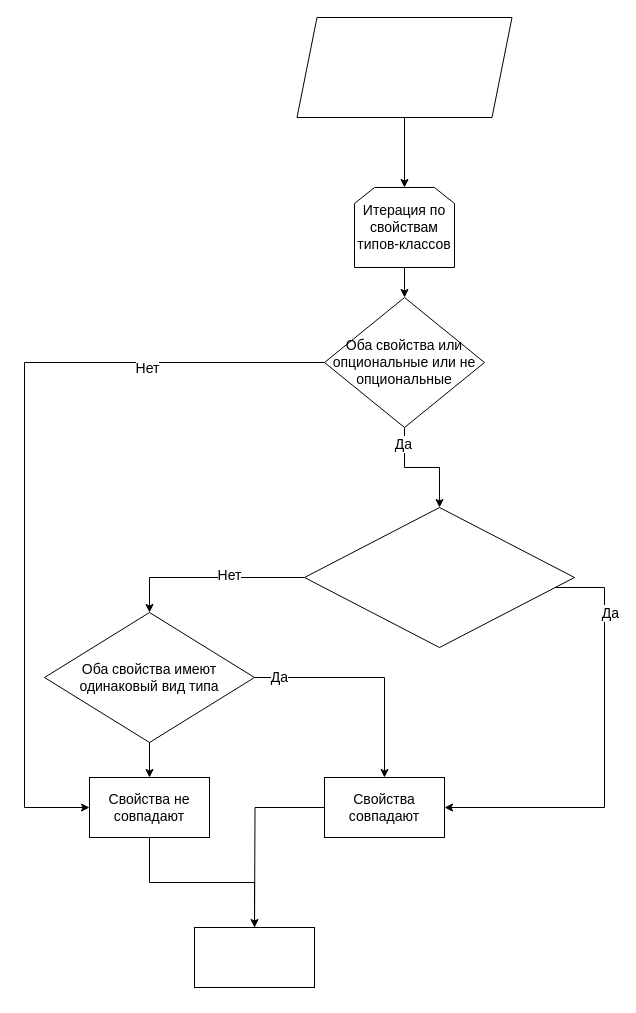
The diagram is 636 pixels wide and 1013 high, and some of its shapes have lost their labels. The shapes that lost their labels are listed below. From the top down, each one's centre as x and y in pixels, then its label:
the point at 404,67: Два типа-класса, имеющие одинаковые свойства по наименованиям
the point at 439,577: Ссылка на тип для свойств сравнимых классовых типов совпадает
the point at 254,957: Вовзращаем результат сравнения
